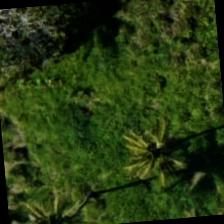Kelapa_Sawit: (108, 95, 206, 193)
